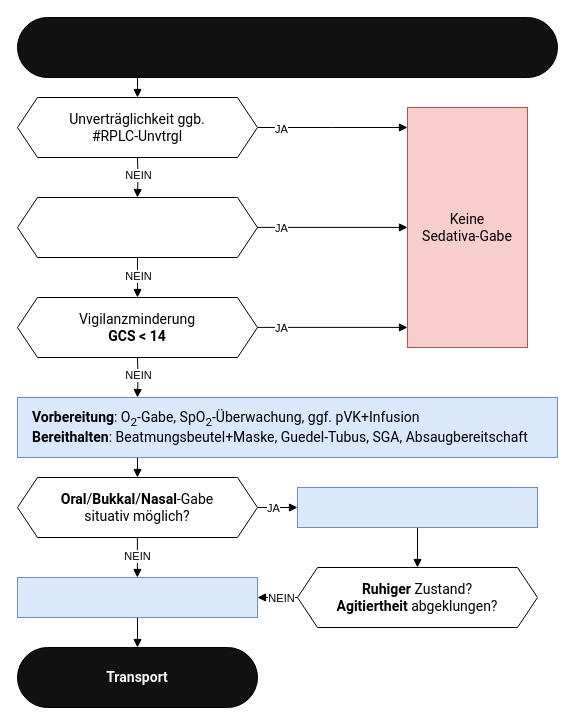
Some shapes in this 575 by 725 pixel diagram are drawn without their labels. Each missing label, with the centre of its shape:
"Intravenöse -Gabe" goes at point 137,597.
"Oral / Bukkal / Nasal -Gabe" goes at point 417,507.
"Respiratorische Insuffizienz? Schwere COPD?" goes at point 137,227.
"Starker Erregungszustand" goes at point 287,47.
